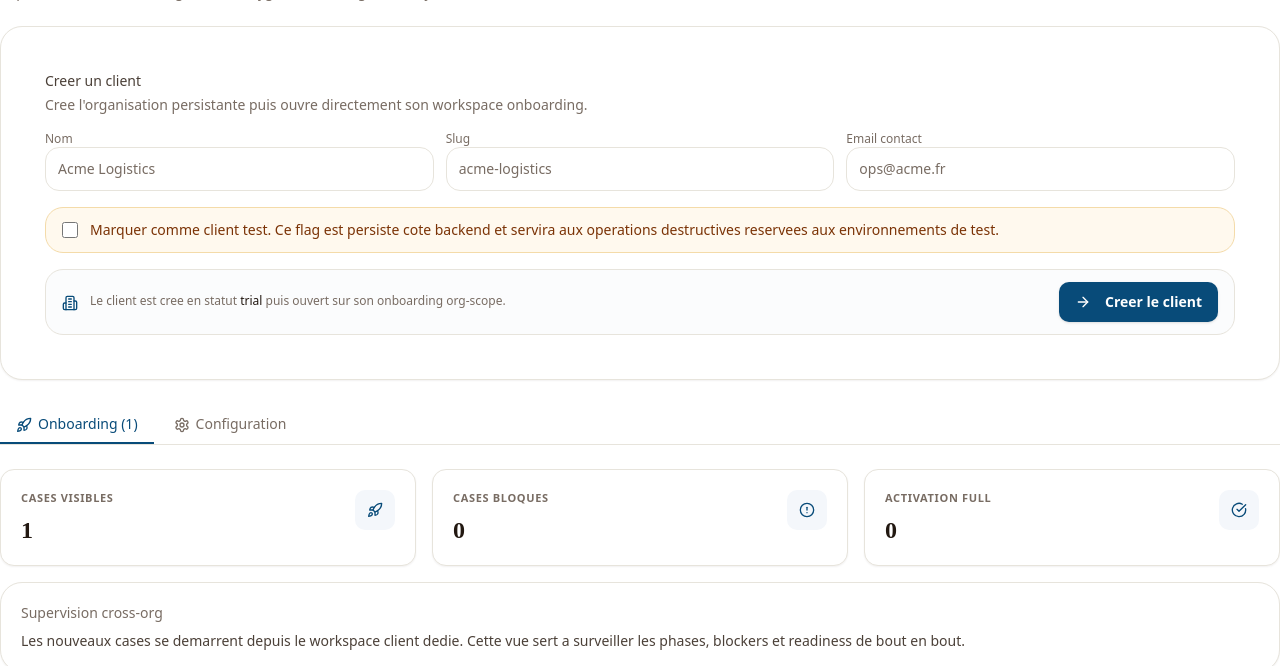
Test: restructured admin pages › ParametresPage config section shows missing params
Click the button "Configuration": (230, 424) [158,404,302,444]
(page scrolled)
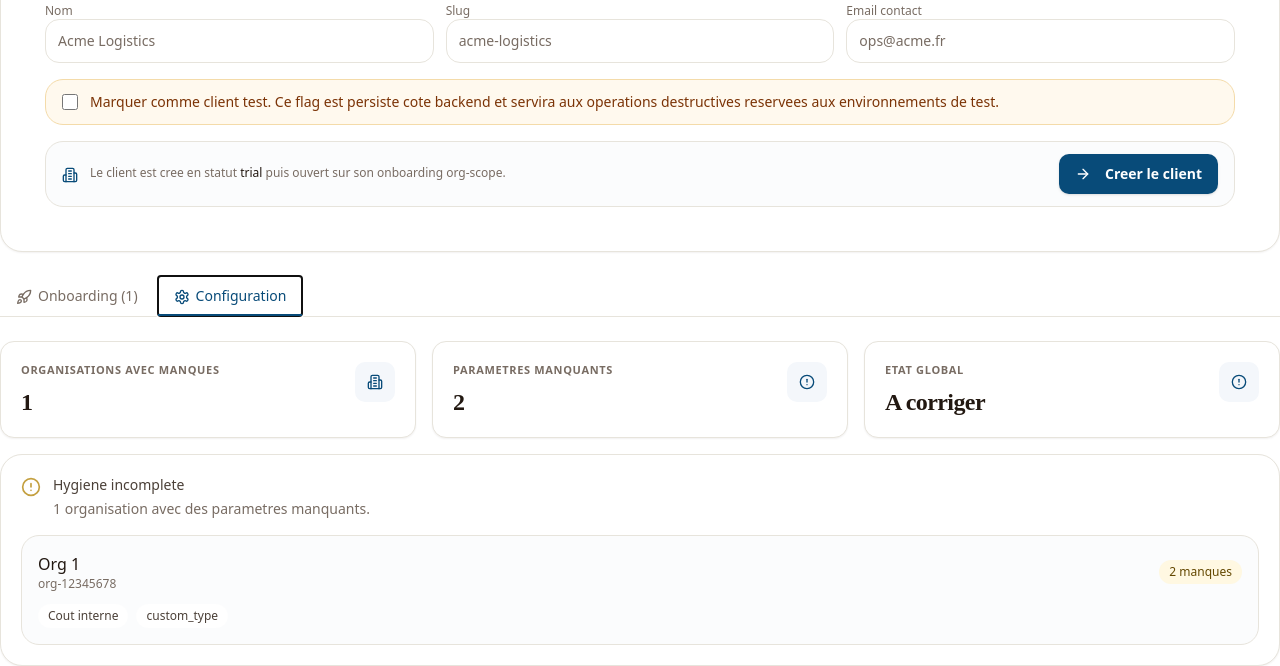
Check: the text "1 organisation avec des parametres manquants." is shown, box [53,498,370,518]
Check: the text "Cout interne" is shown, box [38,604,128,628]
Check: the text "custom_type" is shown, box [136,604,228,628]
